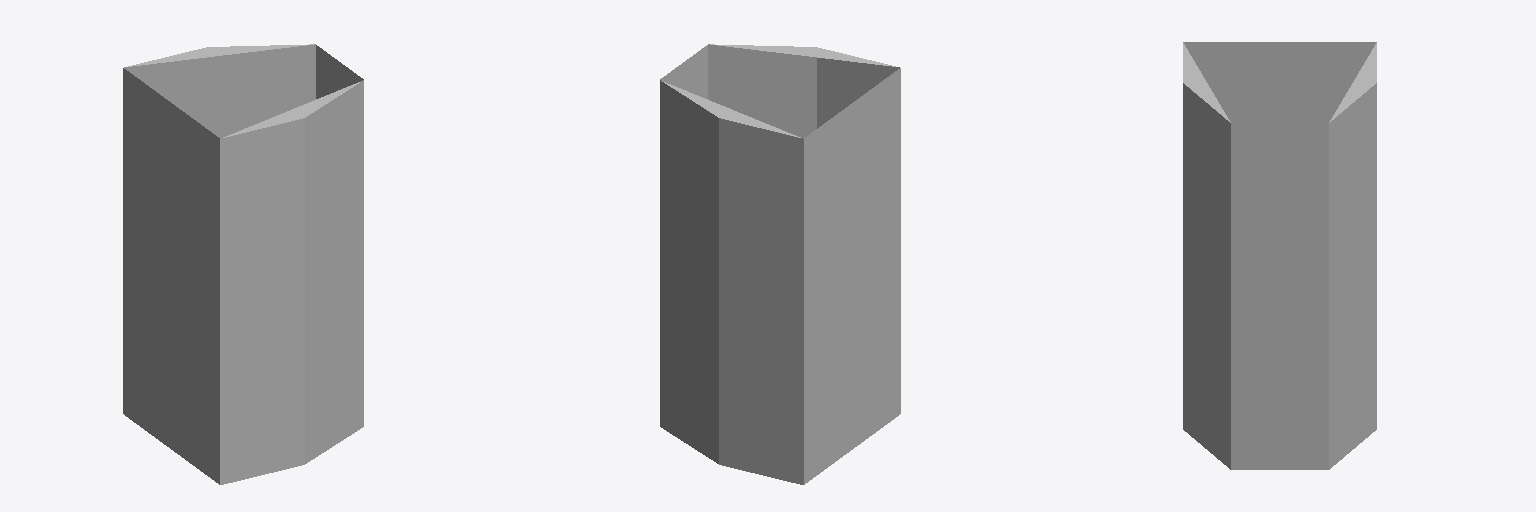
The model's file is car2_planar_robot.obj.
3 views of the same model, side by side, from view 1: azimuth 30°, elevation 25°; view 2: azimuth 150°, elevation 25°; view 3: azimuth 270°, elevation 25° (orthographic).
Parts seen in each view (by area): view 1: instance_0; view 2: instance_0; view 3: instance_0.
Part boxes in pixels (bbox=[...]): instance_0: bbox=[123, 44, 363, 484]; instance_0: bbox=[660, 44, 900, 484]; instance_0: bbox=[1183, 42, 1376, 469].
Size of the model in its own units: 4 by 7.87 by 4.